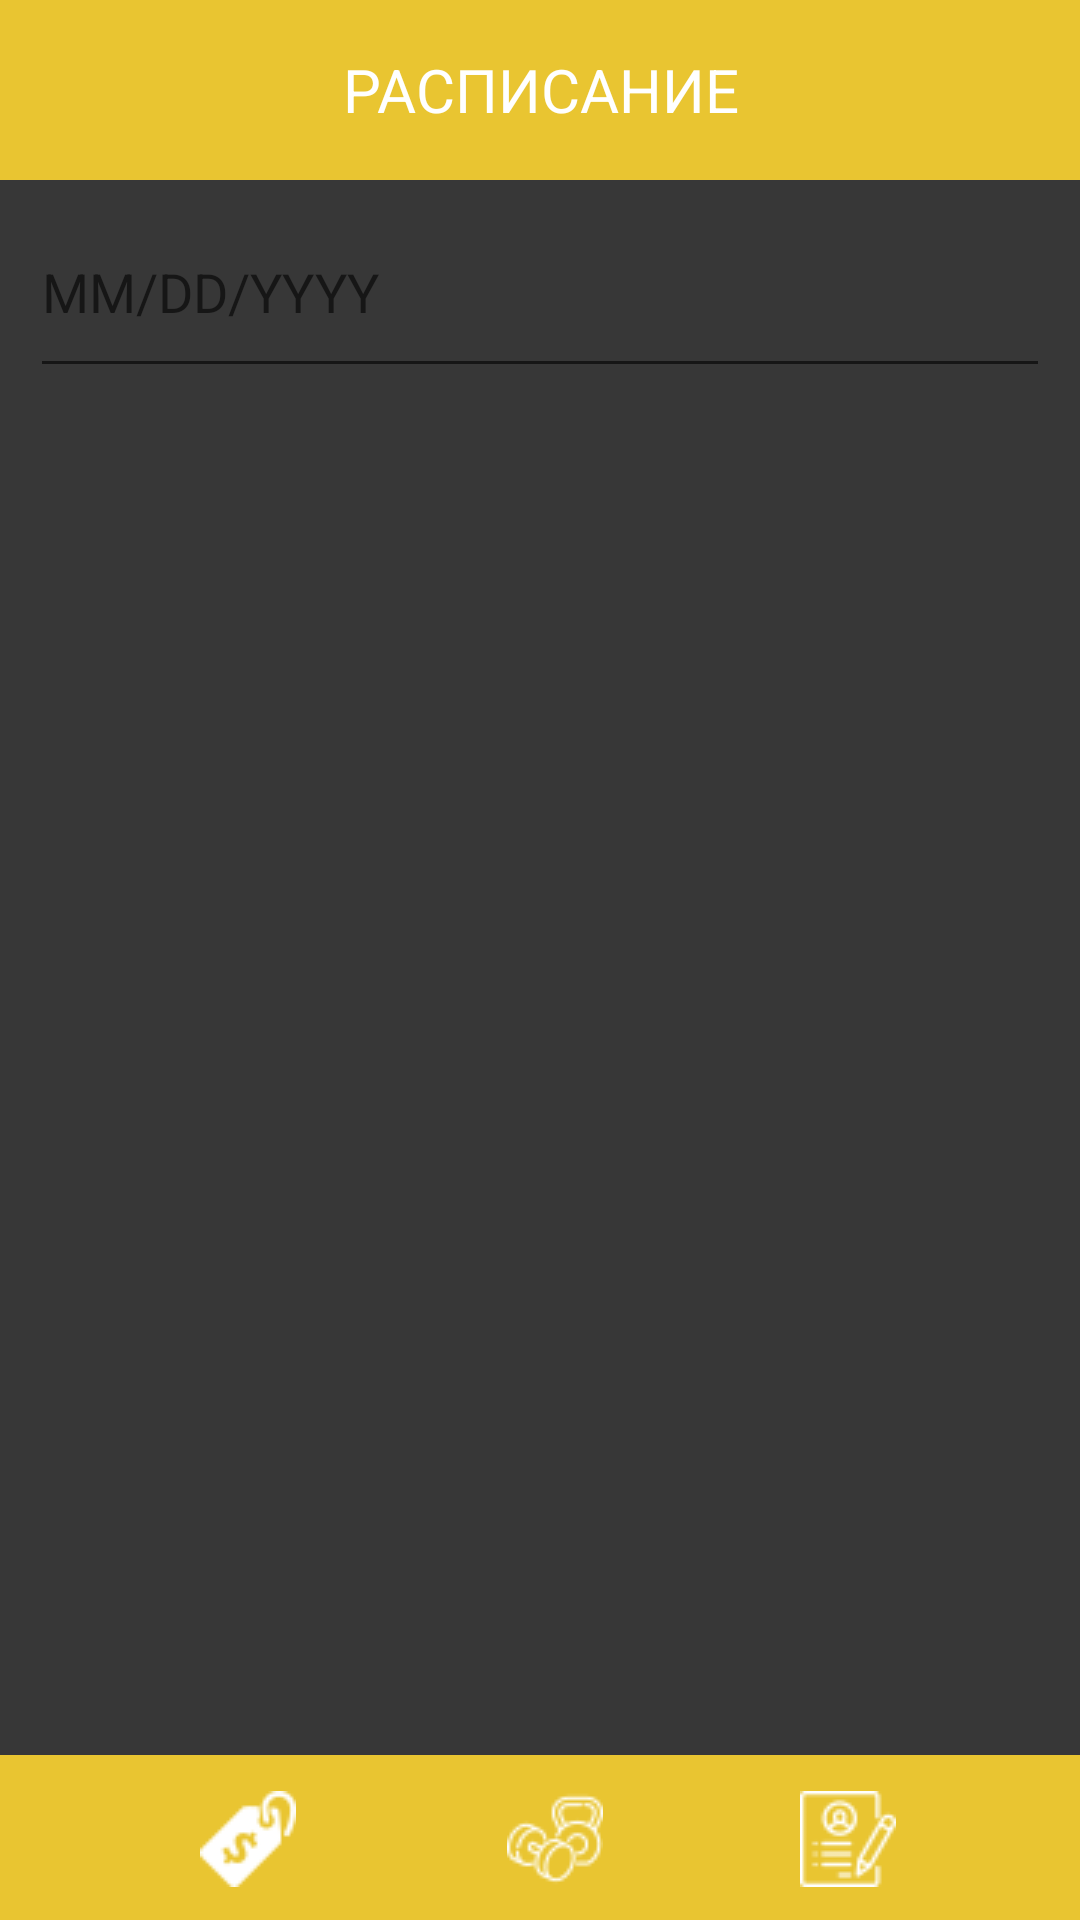

Where icons sit on this 1080px×1920px app screen, as (x1, y1, x2, y2):
price: (200, 1791, 296, 1887)
resume: (800, 1791, 896, 1887)
weights: (507, 1795, 603, 1882)
